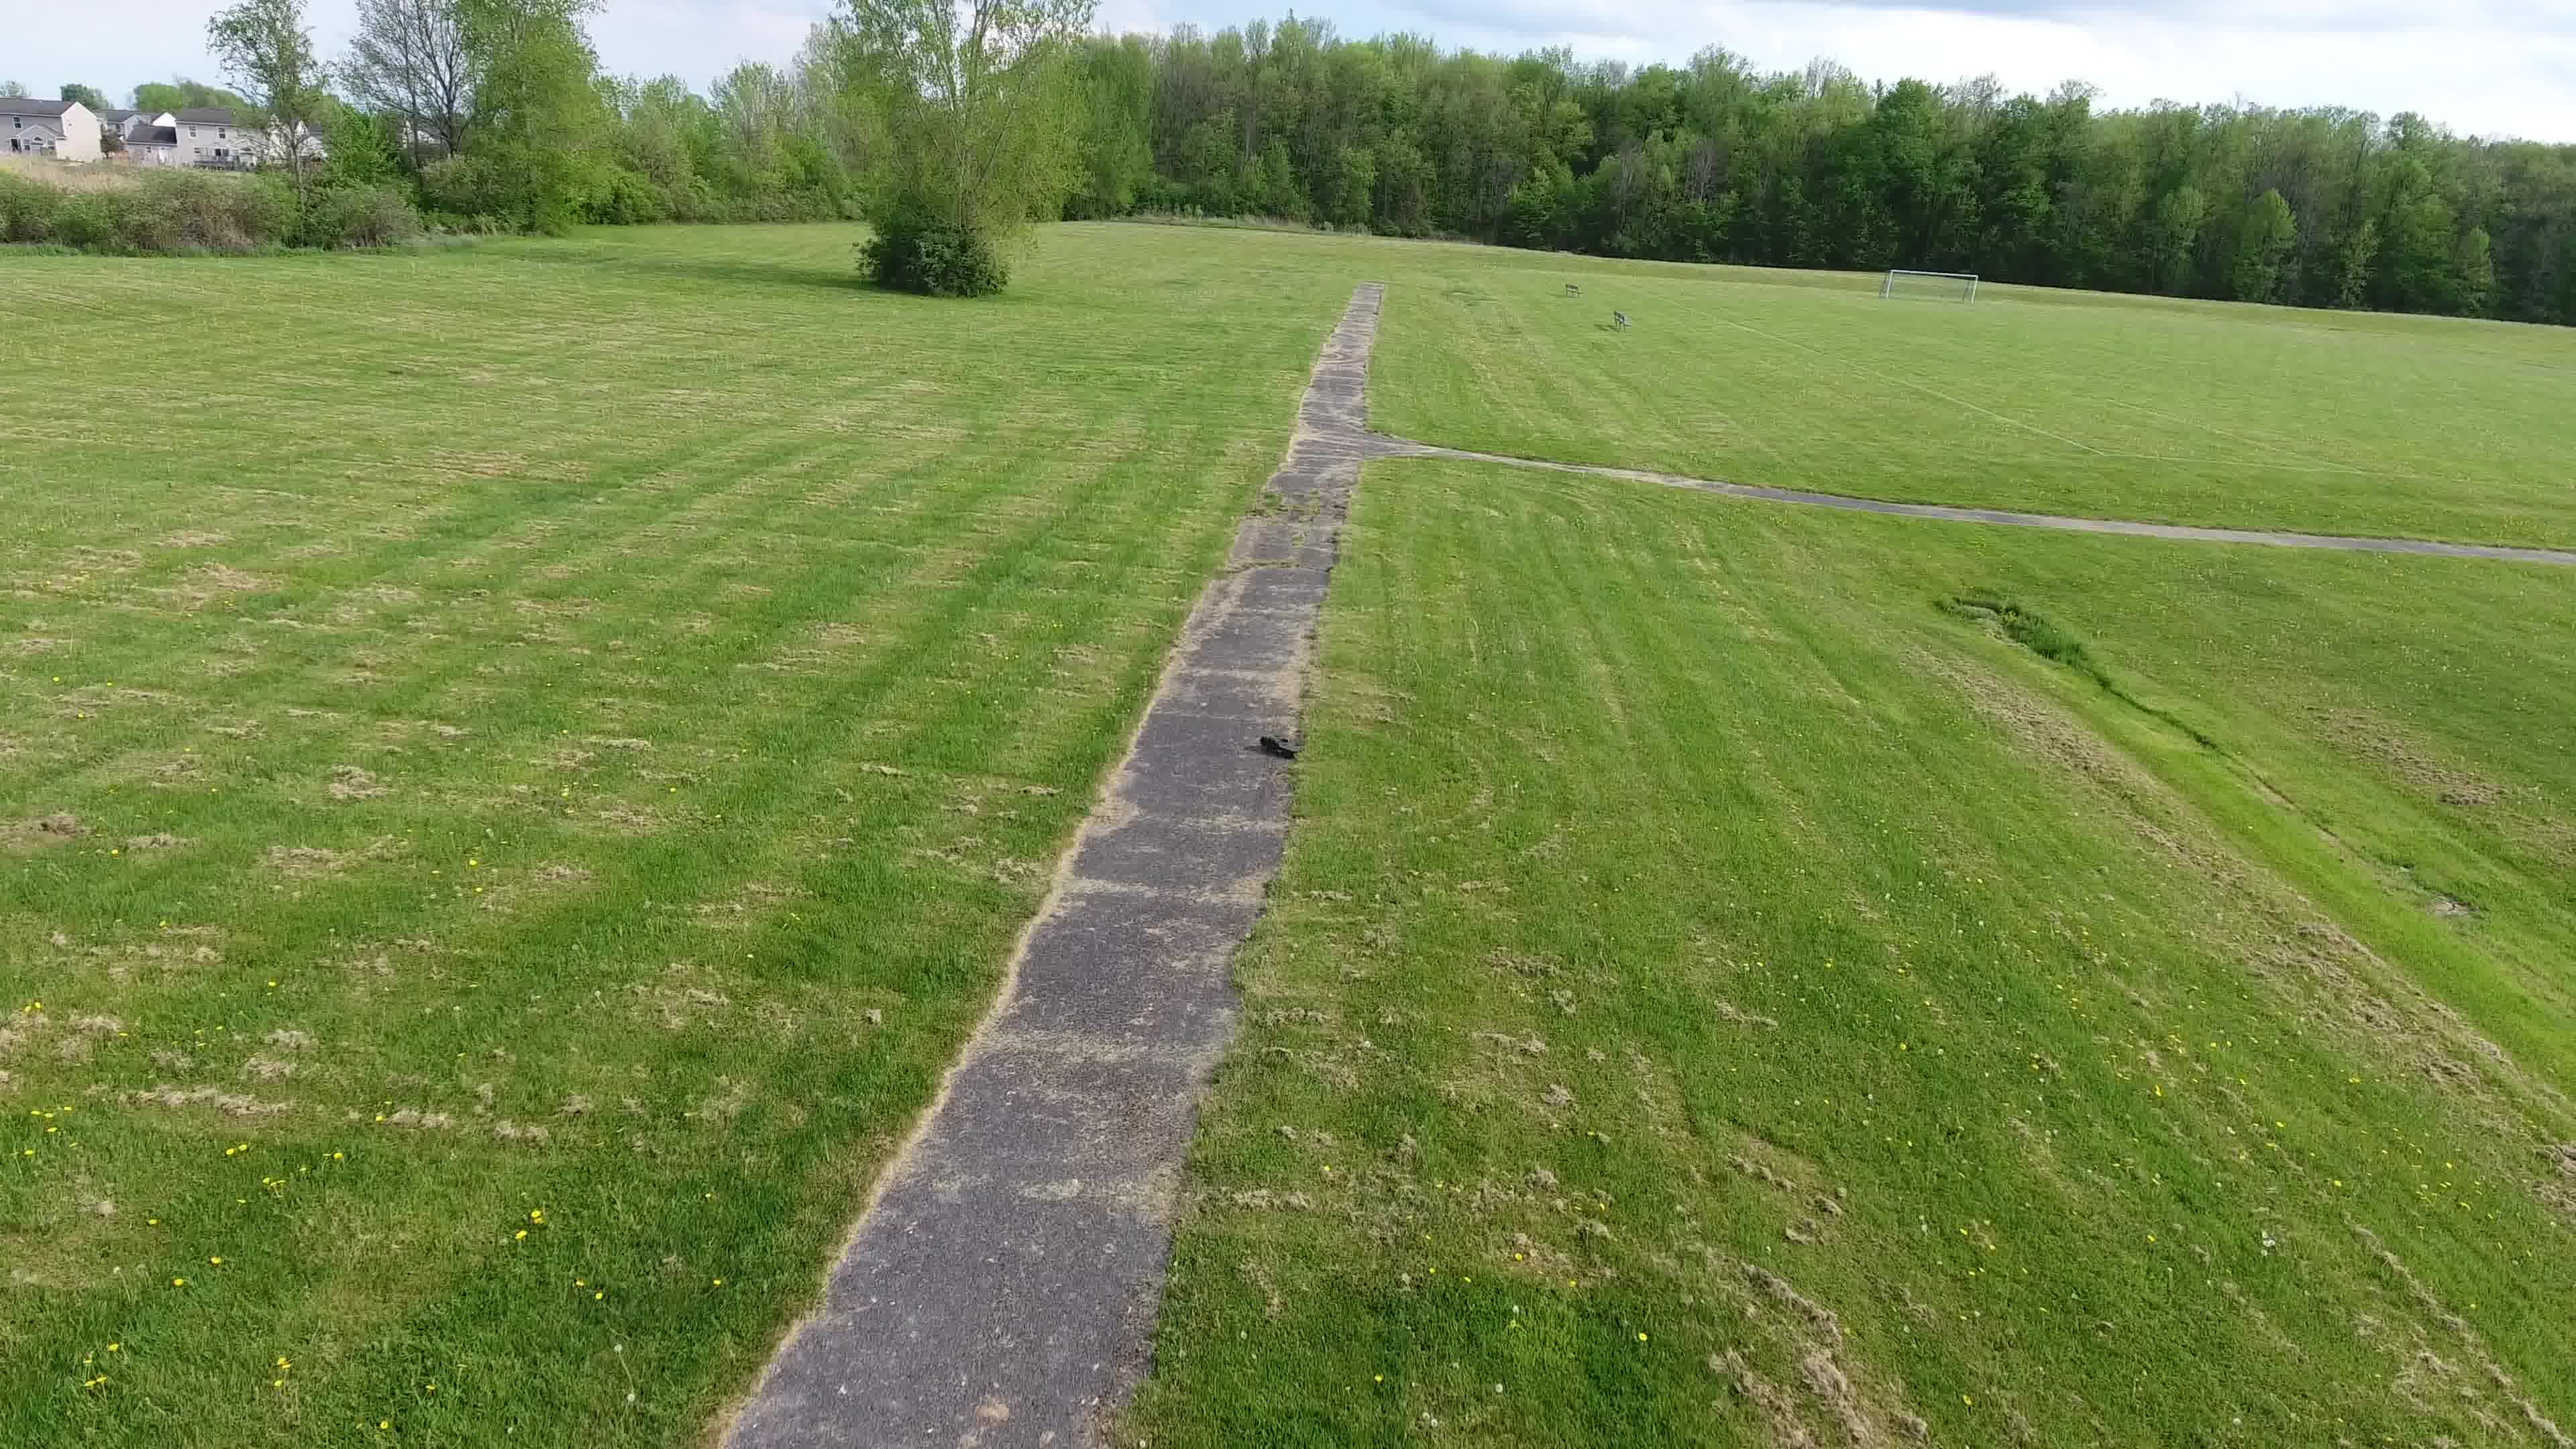transporter9: (1258, 731, 1304, 761)
